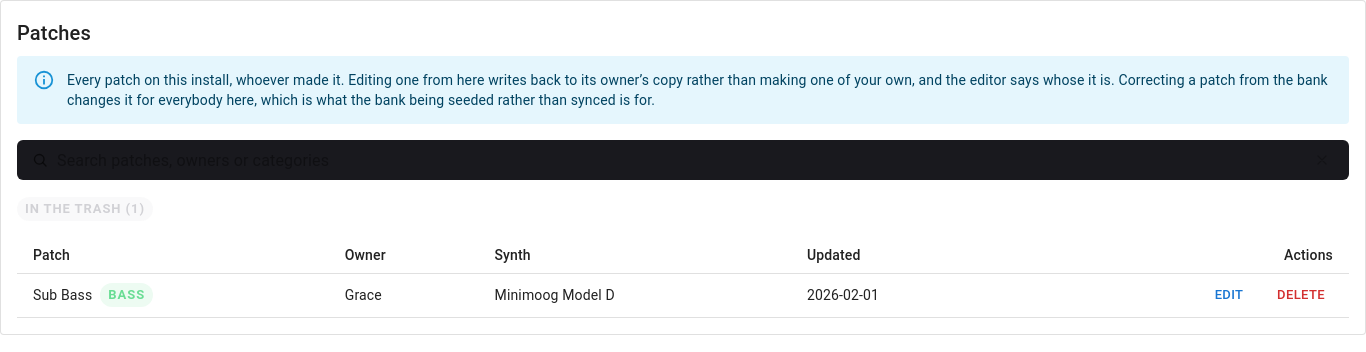
Test: the trash on the same page › is hidden until it is asked for, and holds the deleted rows
The image size is (1366, 352).
Expected: the text "Sub Bass" is shown once, [33,285,92,305]
Click the button "In the trash (1)" at x=85, y=209, box [17,197,153,221]
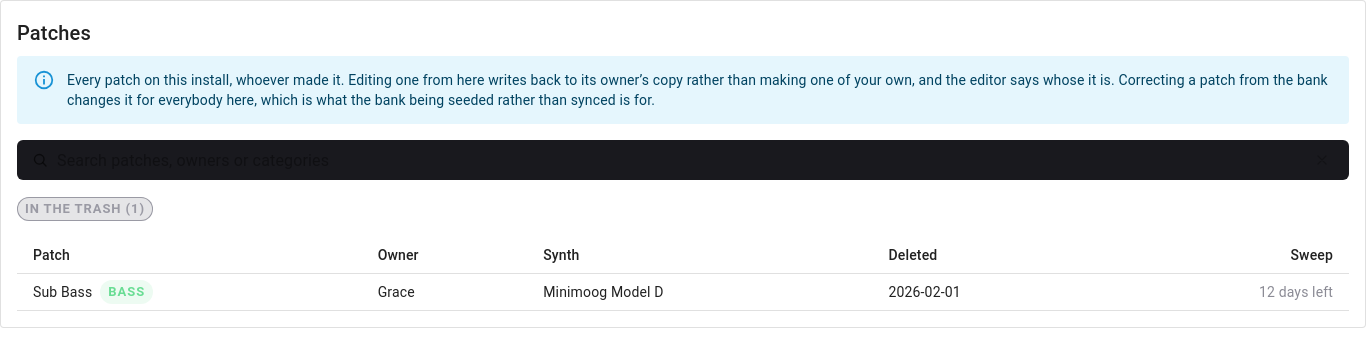
Result: the text "12 days left" is shown at [1259,284,1333,300]
